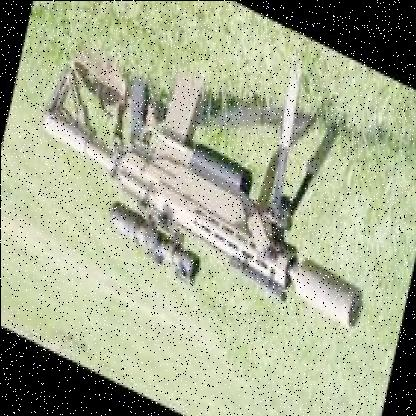rifle: (23, 30, 396, 370)
